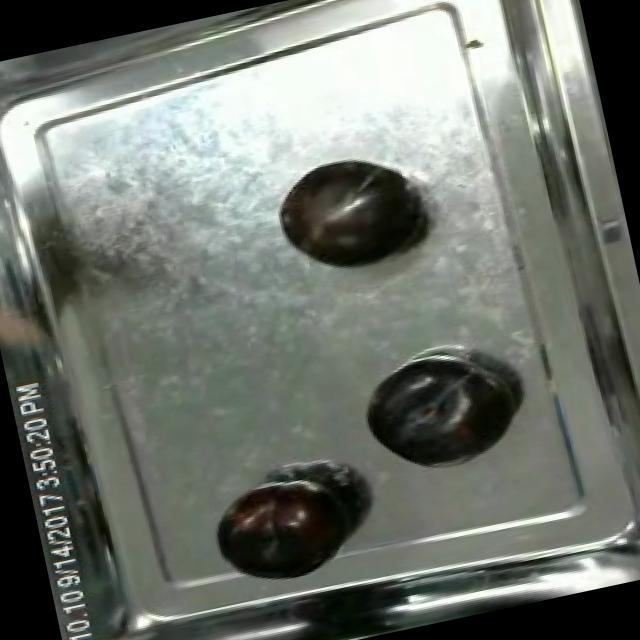Fruit: (264, 143, 436, 286), (352, 343, 524, 484), (199, 462, 370, 596)
